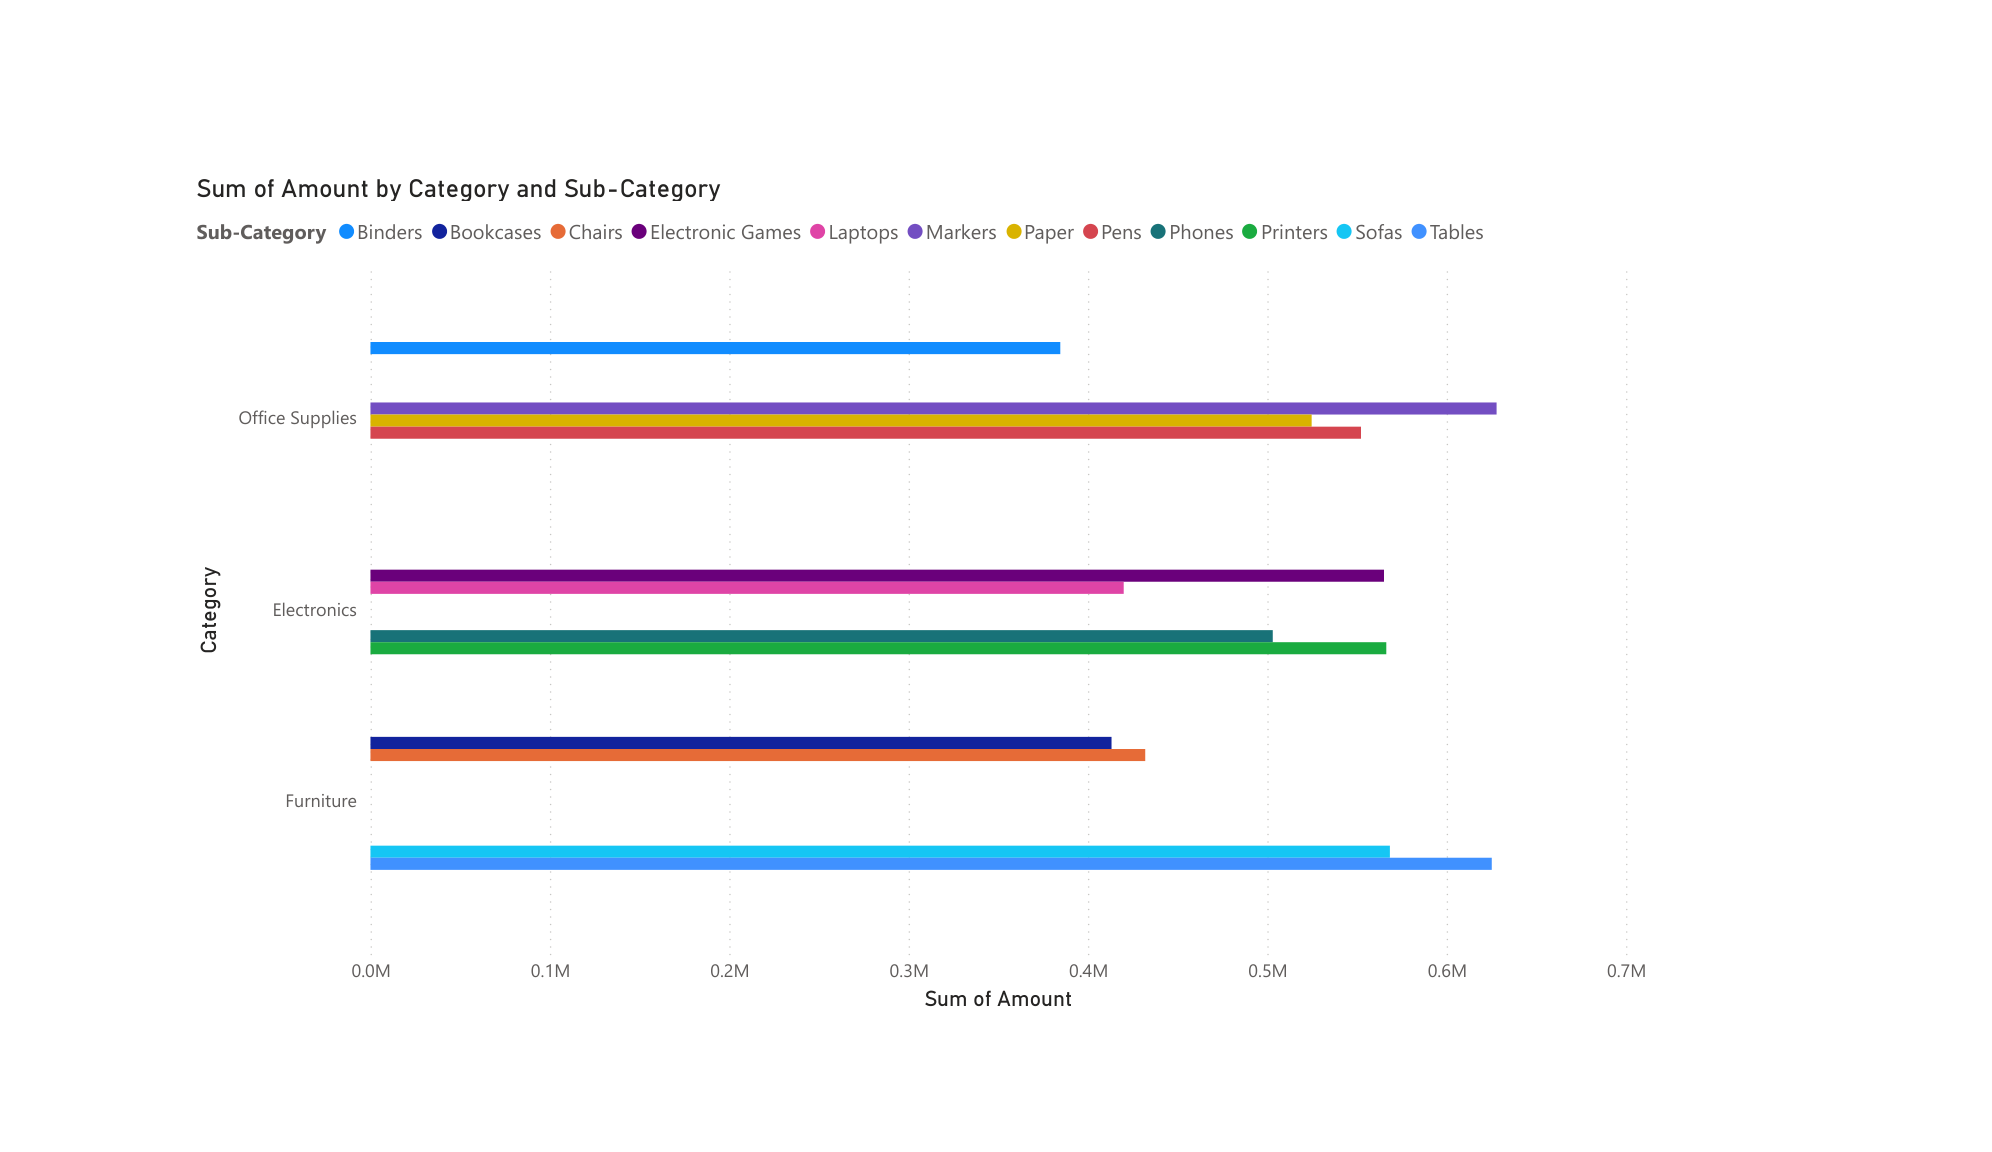

The dashboard page shown, as its layout file describes it:
{"tool":"powerbi","page":{"name":"Page 2","canvas":[1280,720],"ordinal":1},"visuals":[{"type":"clusteredBarChart","fields":{"Category":["Sales_Dataset.Category"],"Y":["Sum(Sales_Dataset.Amount)"],"Series":["Sales_Dataset.Sub-Category"]},"box":[102,90.7,977,563.2],"z":0}]}

Visuals, with their boxes in screenshot pixels (x1, y1, x2, y2), scaled from the page's 1280x720 canvas onto the 1992x1152 screenshot:
clusteredBarChart - Sales_Dataset.Category x Sum(Sales_Dataset.Amount): 159/145/1679/1046
